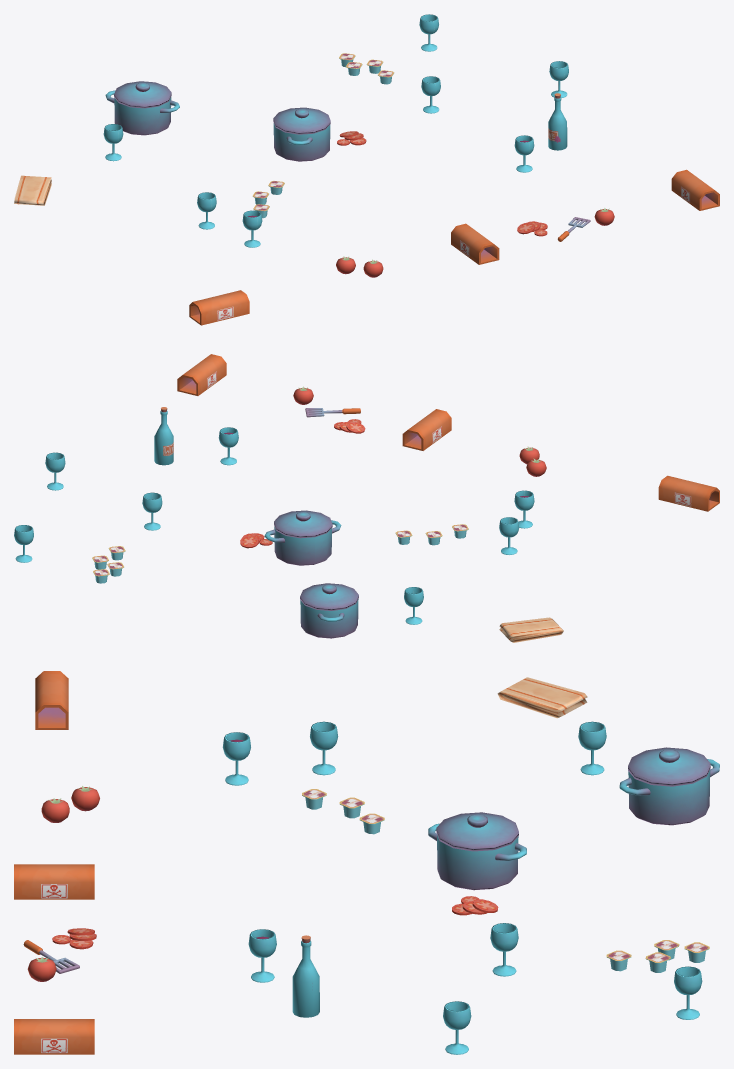
The picture shows the model from 3 angles, top to bottom: view 1: azimuth 30°, elevation 25°; view 2: azimuth 150°, elevation 25°; view 3: azimuth 270°, elevation 25°; orthographic projection. The views are drawn at different scales.
Visible parts, largest first — view 1: Pot, Pot2, RatTrap2, PotLid, PotLid 1, RatTrap3, RatTrap4, Towel, polySurface3; view 2: Pot2, Pot, RatTrap2, PotLid 1, PotLid, RatTrap4, RatTrap3, Towel, polySurface3, WineGlassEmpty4, WineGlassEmpty2, WineGlassEmpty (+4 smaller); view 3: Pot, Pot2, RatTrap4, RatTrap3, PotLid, PotLid 1, Towel, RatTrap2, polySurface3, WineGlassEmpty4, WineGlassEmpty2, WineGlassEmpty (+6 smaller).
Boxes of the visible parts, x1,y1,x2,y2 form: Pot: (105,90,179,135); Pot2: (273,123,330,161); RatTrap2: (189,290,249,325); PotLid: (114,81,171,108); PotLid 1: (273,107,330,134); RatTrap3: (451,223,499,264); RatTrap4: (671,169,719,210); Towel: (14,175,51,205); polySurface3: (548,93,567,150); Pot2: (264,520,341,565); Pot: (300,599,358,638); RatTrap2: (658,475,719,511); PotLid 1: (274,510,332,538); PotLid: (300,583,358,610); RatTrap4: (177,354,226,395); RatTrap3: (402,409,451,450); Towel: (499,617,563,642); polySurface3: (154,407,173,465); WineGlassEmpty4: (45,452,65,490); WineGlassEmpty2: (142,492,162,530); WineGlassEmpty: (499,517,519,554); Pot: (619,759,719,825); Pot2: (428,823,526,890); RatTrap4: (14,1019,94,1054); RatTrap3: (14,864,94,899); PotLid: (628,747,710,786); PotLid 1: (436,812,518,851); Towel: (497,677,587,718); RatTrap2: (35,671,68,729); polySurface3: (292,935,319,1017); WineGlassEmpty4: (443,1001,471,1054); WineGlassEmpty2: (490,923,518,976); WineGlassEmpty: (310,721,338,775).
Size of what is drawn, in the model's own units: 52.62 by 5.03 by 42.21.
